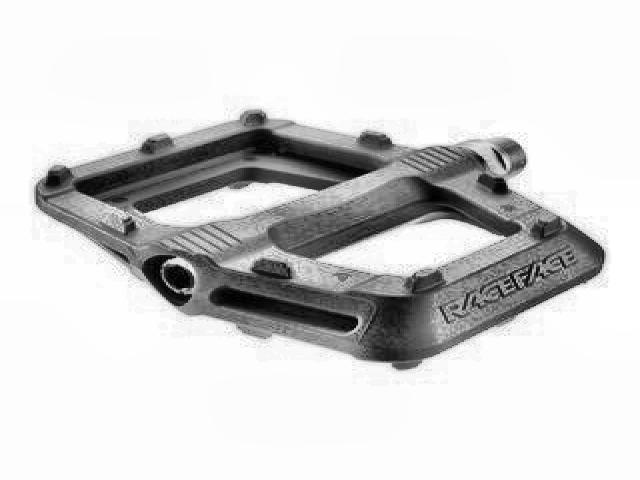pedal: (34, 106, 611, 384)
